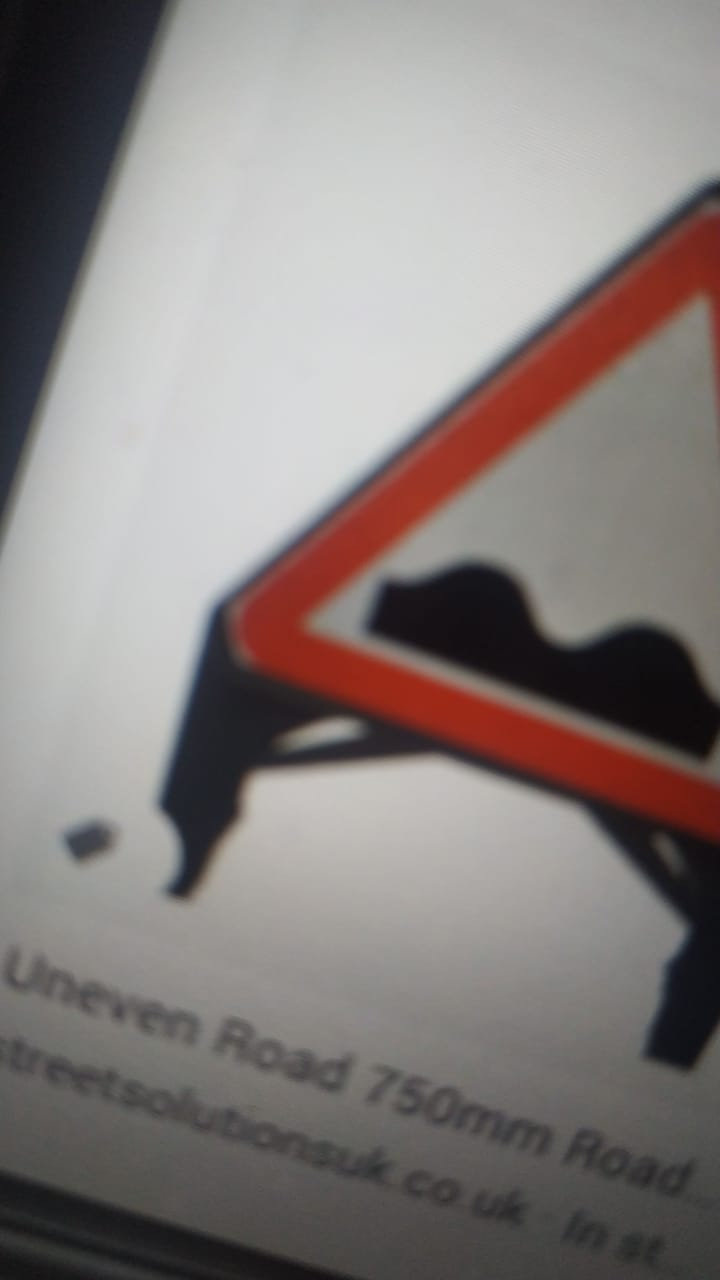UNEVEN ROAD: (231, 176, 720, 855)
